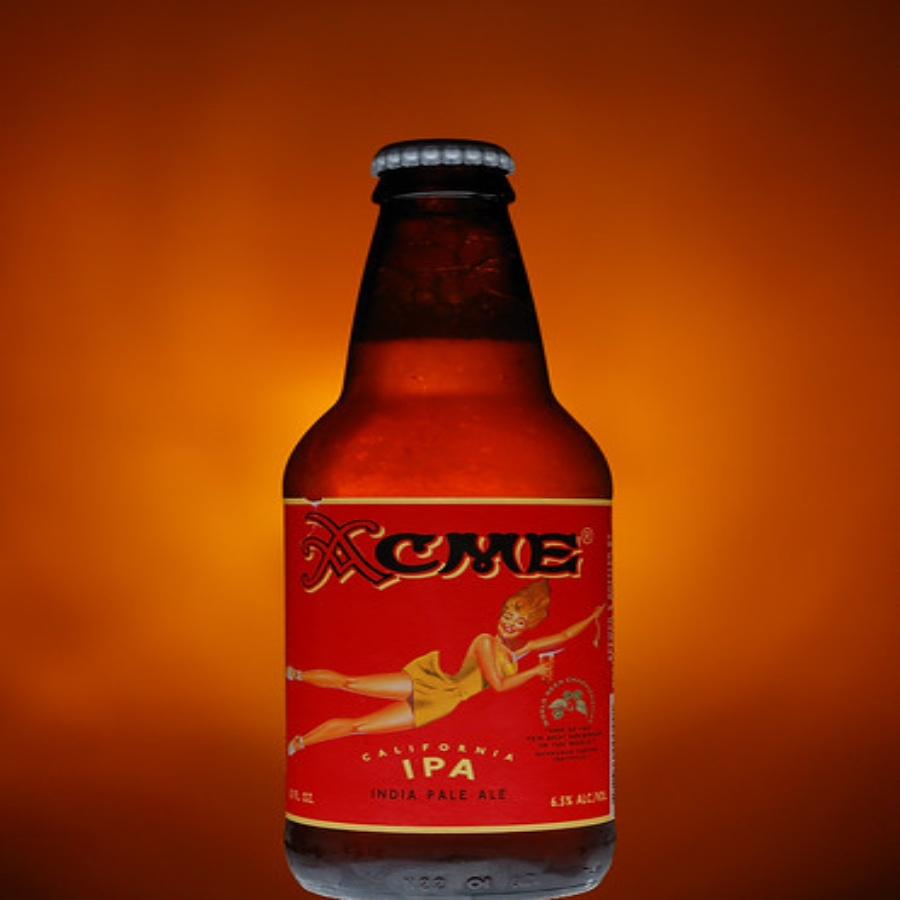beer: (287, 140, 614, 900)
